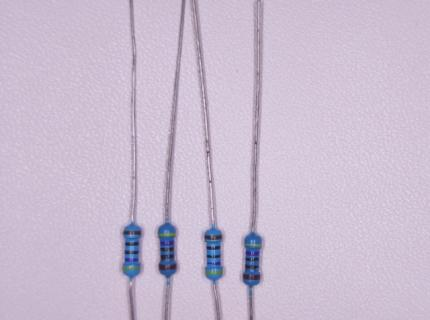Black band: (124, 250, 140, 255), (125, 241, 140, 246), (160, 247, 175, 252), (206, 245, 221, 250), (206, 254, 221, 259), (160, 254, 174, 259), (245, 258, 260, 262), (245, 265, 259, 269)
Brown band: (158, 263, 177, 271), (243, 273, 261, 280), (204, 235, 223, 240), (123, 230, 142, 235)
Violet band: (245, 250, 260, 256), (160, 240, 175, 245), (124, 258, 139, 262), (207, 262, 221, 266)
Yellow band: (122, 266, 141, 270), (244, 243, 263, 247), (158, 233, 176, 236), (205, 271, 223, 274)
